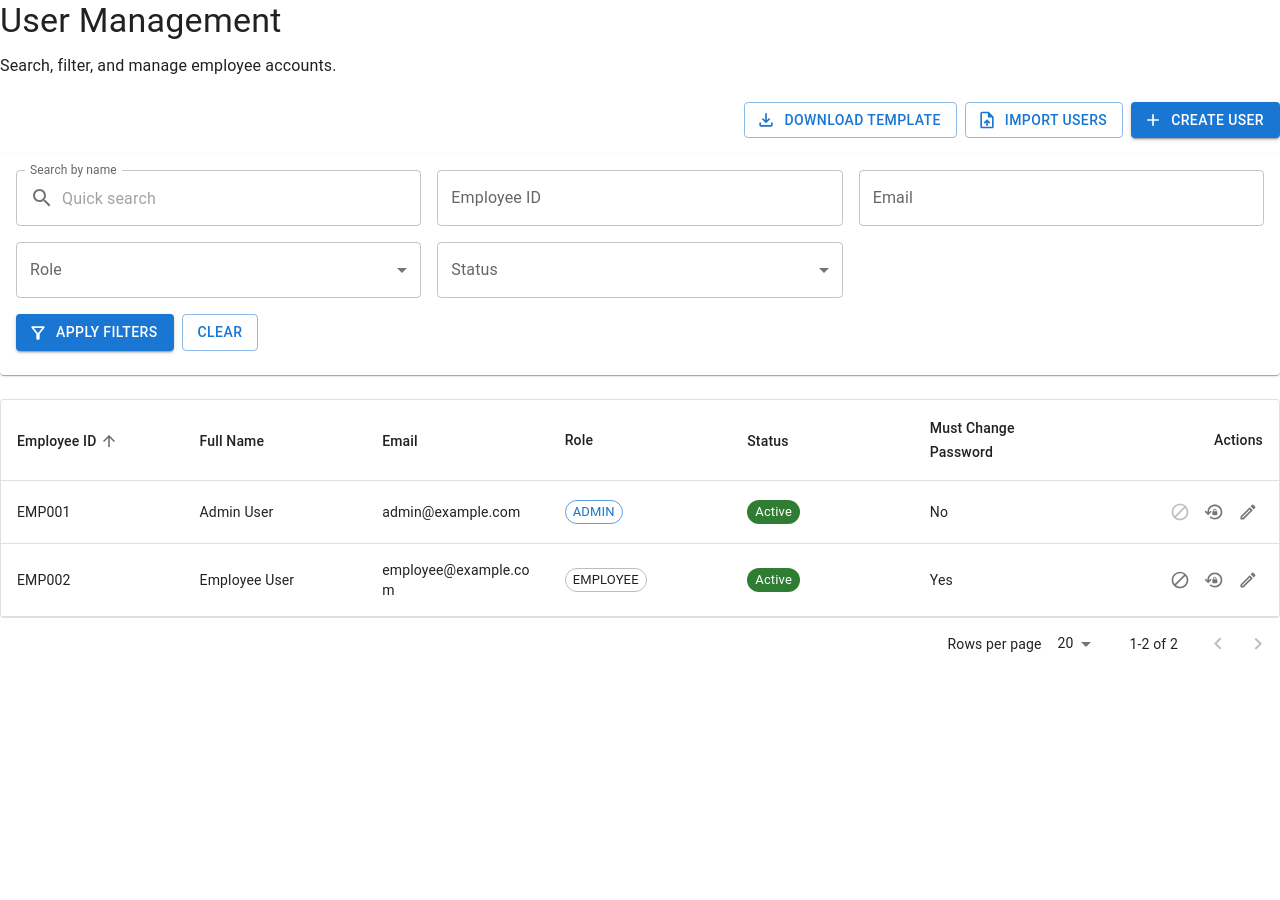
it: UserListPage › deactivates another user after confirmation
This screenshot has width=1280, height=900.
expect the text "Employee User" is shown: met, box x1=200 y1=572 x2=294 y2=588
Click the button named "Deactivate user Employee User": (1180, 580) x1=1165 y1=565 x2=1195 y2=595
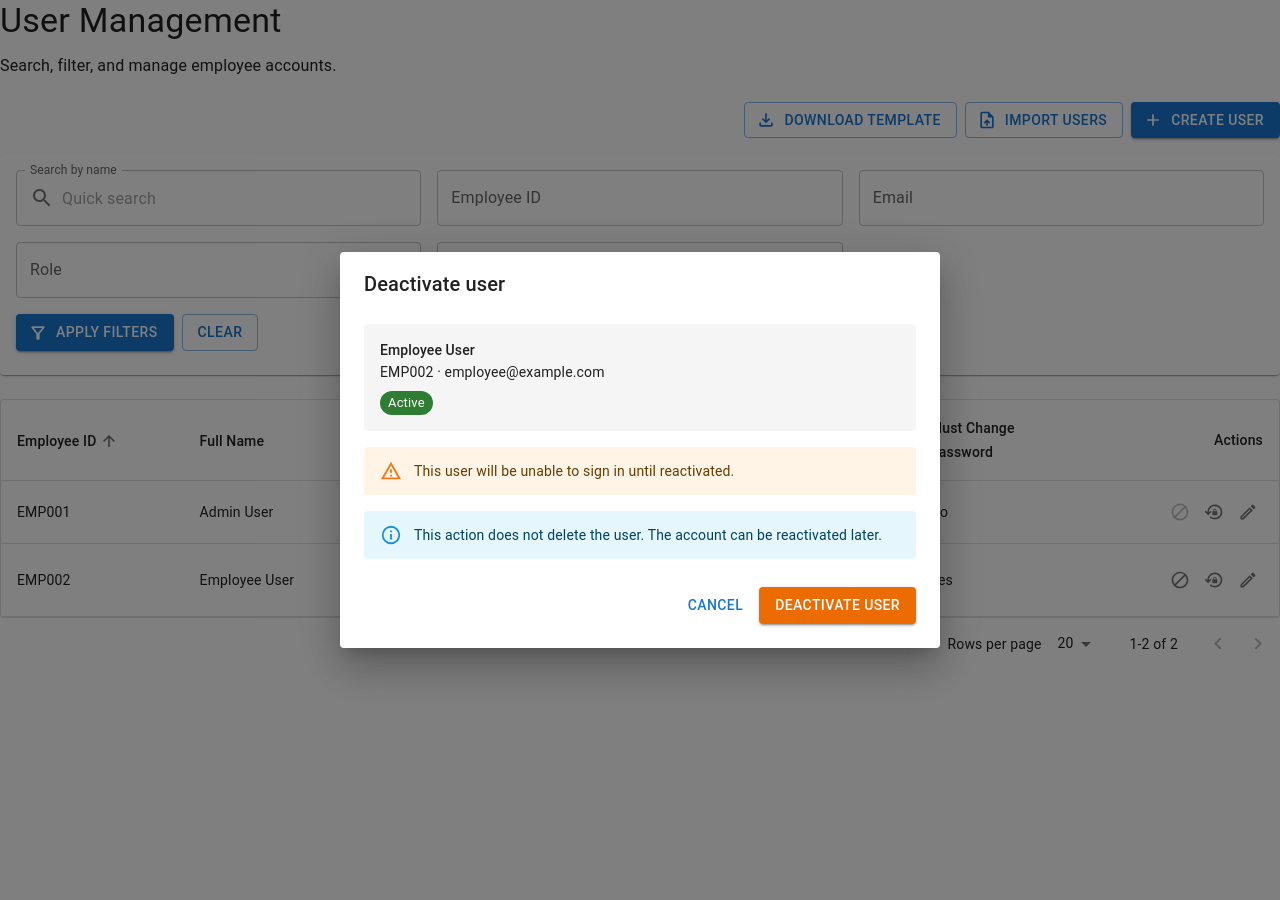
expect the text "This action does not delete the user. The account can be reactivated later." is shown: met, box x1=414 y1=527 x2=882 y2=543
Click the button "Deactivate user": (838, 605) x1=759 y1=587 x2=916 y2=624
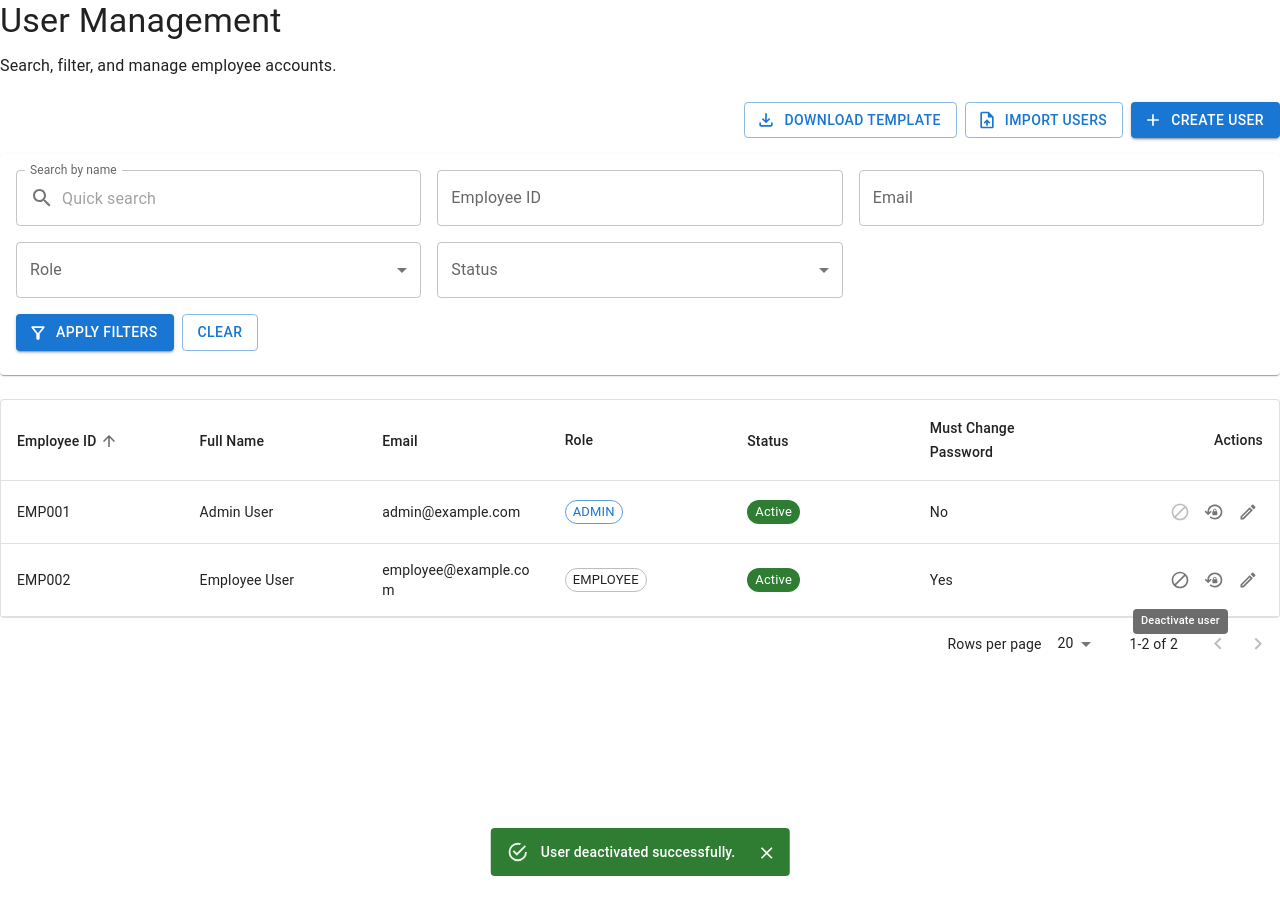
expect the message reads "User deactivated successfully.": met, box x1=541 y1=844 x2=735 y2=860
